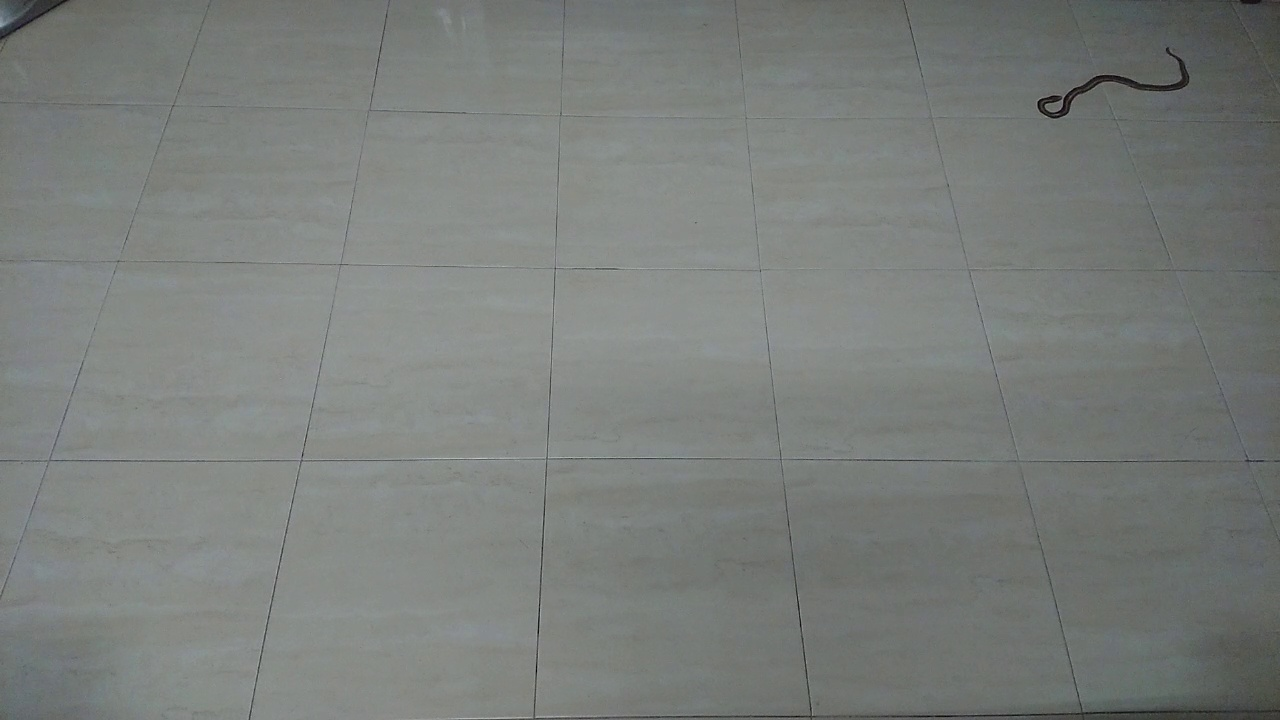snake: (1024, 39, 1201, 135)
